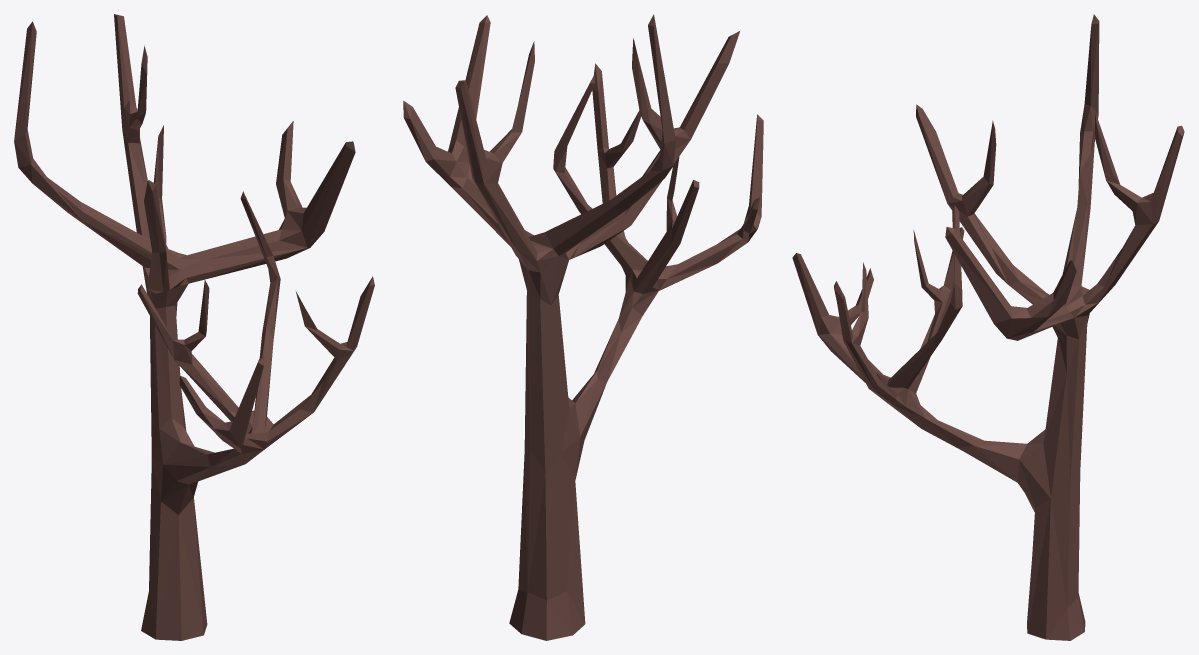
The model's file is CommonTree_Dead_2.lod2.glb.
3 views of the same model, side by side, from view 1: azimuth 30°, elevation 25°; view 2: azimuth 150°, elevation 25°; view 3: azimuth 270°, elevation 25° (orthographic). The views are drawn at different scales.
Visible parts, largest first — view 1: CommonTree_Dead_2; view 2: CommonTree_Dead_2; view 3: CommonTree_Dead_2.
Part boxes in pixels (bbox=[...]): CommonTree_Dead_2: bbox=[14, 14, 374, 640]; CommonTree_Dead_2: bbox=[403, 14, 763, 640]; CommonTree_Dead_2: bbox=[792, 14, 1184, 640].
Size of the model in its own units: 1.34 by 2.95 by 1.87.
